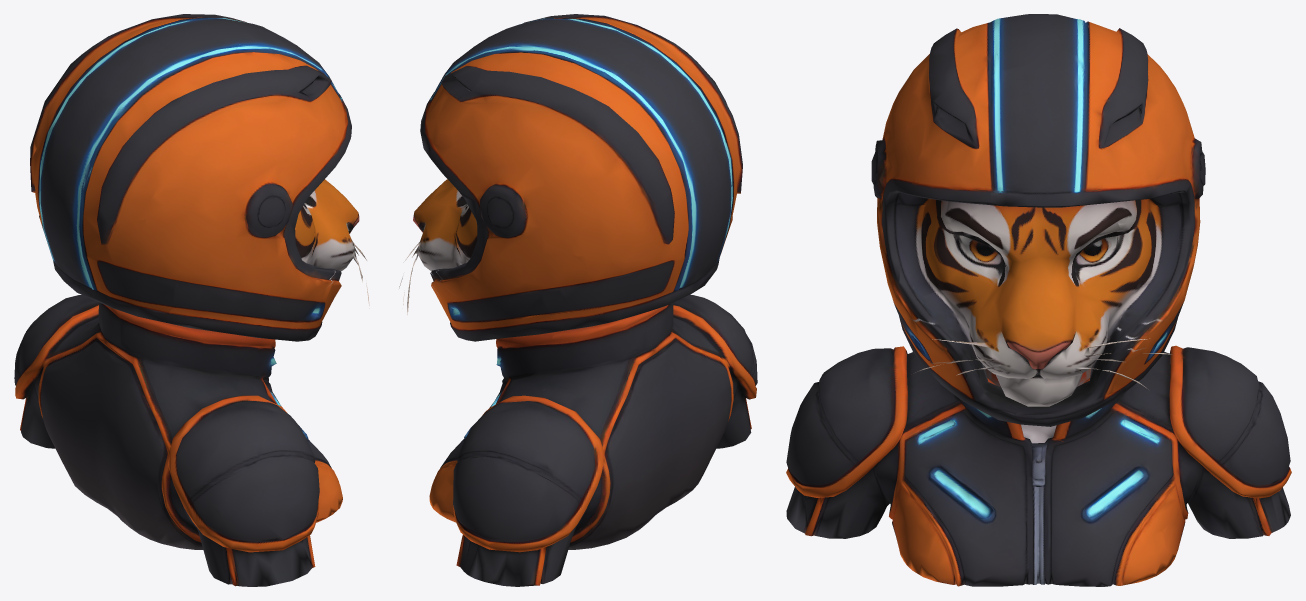
Rendered from zara.glb.
3 views of the same model, side by side, from view 1: azimuth 30°, elevation 25°; view 2: azimuth 150°, elevation 25°; view 3: azimuth 270°, elevation 25° (orthographic). The views are drawn at different scales.
Visible parts, largest first — view 1: tripo_node_f7fbdf35-c48f-4158-8c28-003a9200a9d4; view 2: tripo_node_f7fbdf35-c48f-4158-8c28-003a9200a9d4; view 3: tripo_node_f7fbdf35-c48f-4158-8c28-003a9200a9d4.
Boxes of the visible parts, x1=… form: tripo_node_f7fbdf35-c48f-4158-8c28-003a9200a9d4: x1=14, y1=14, x2=369, y2=586; tripo_node_f7fbdf35-c48f-4158-8c28-003a9200a9d4: x1=399, y1=14, x2=757, y2=586; tripo_node_f7fbdf35-c48f-4158-8c28-003a9200a9d4: x1=786, y1=14, x2=1291, y2=586.
Bounding box in the file's own units: 0.6807 × 1 × 0.9225.
1 material, 1 textured.
